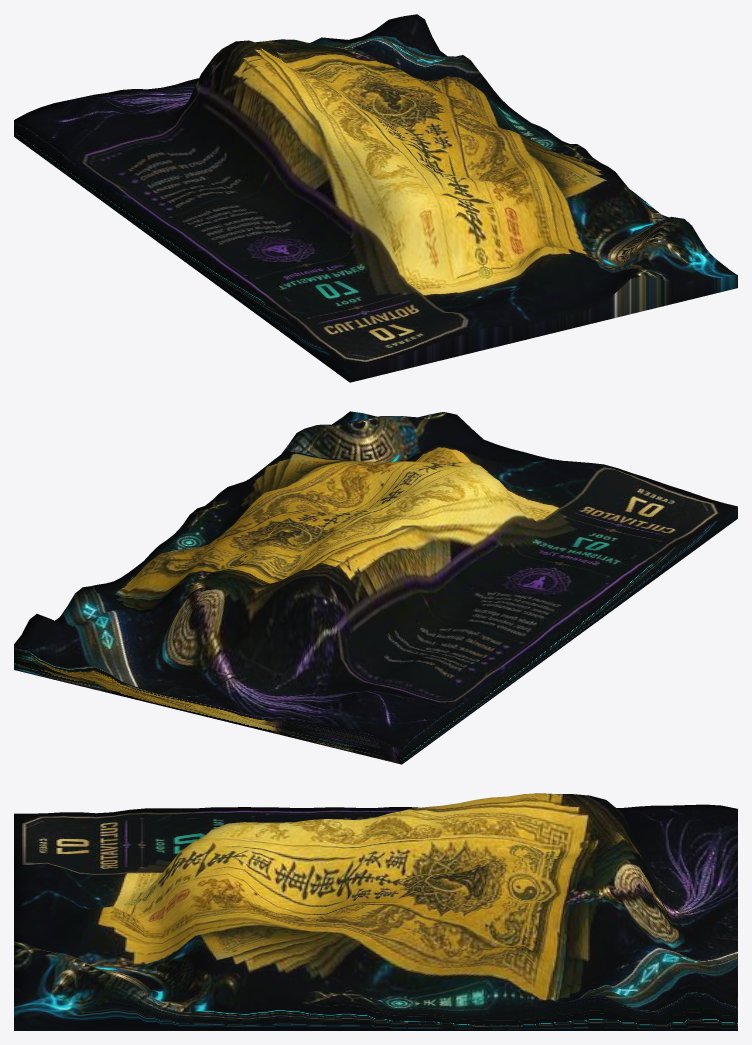
File: CAREER_07_Tool_07_Talisman.glb
The picture shows the model from 3 angles, top to bottom: view 1: azimuth 30°, elevation 25°; view 2: azimuth 150°, elevation 25°; view 3: azimuth 270°, elevation 25°; orthographic projection. The views are drawn at different scales.
Visible parts, largest first — view 1: CAREER_07_Tool_07_Talisman; view 2: CAREER_07_Tool_07_Talisman; view 3: CAREER_07_Tool_07_Talisman.
Part boxes in pixels (x1,y1,x2,y2): CAREER_07_Tool_07_Talisman: (14,14,737,382); CAREER_07_Tool_07_Talisman: (14,411,737,764); CAREER_07_Tool_07_Talisman: (14,793,737,1030).
Size of the model in its own units: 2 by 0.51 by 3.
Materials: 1 (1 with a texture image).
